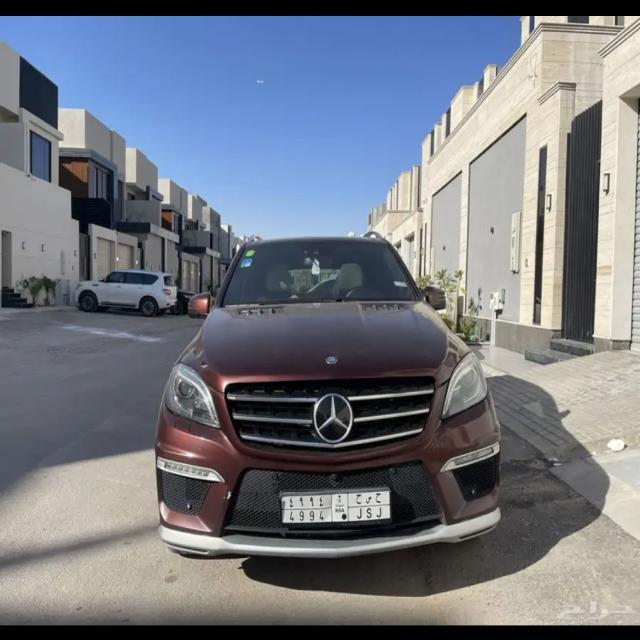license_plate: (279, 486, 391, 524)
